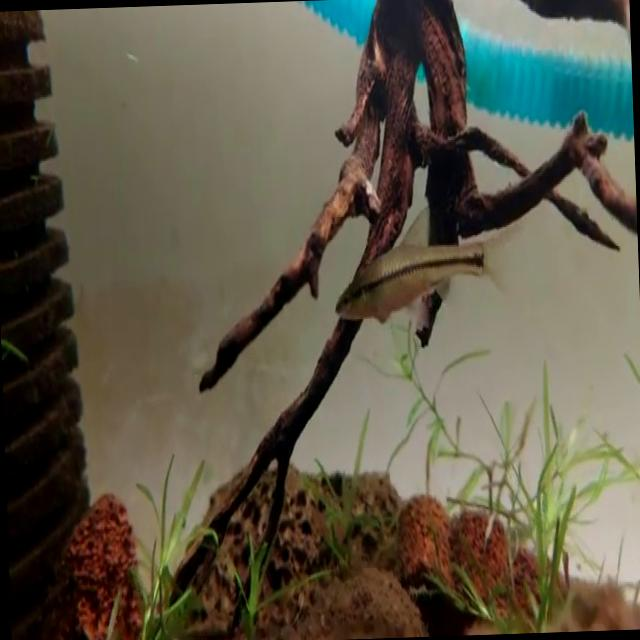Cakil Baligi: (323, 196, 508, 330)
